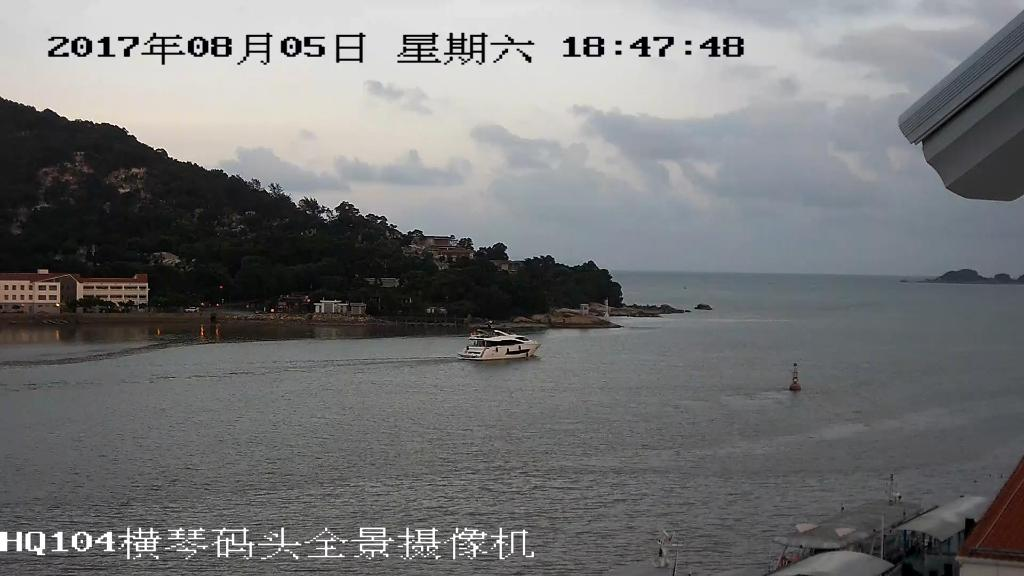PassengerShip: (460, 320, 548, 362)
